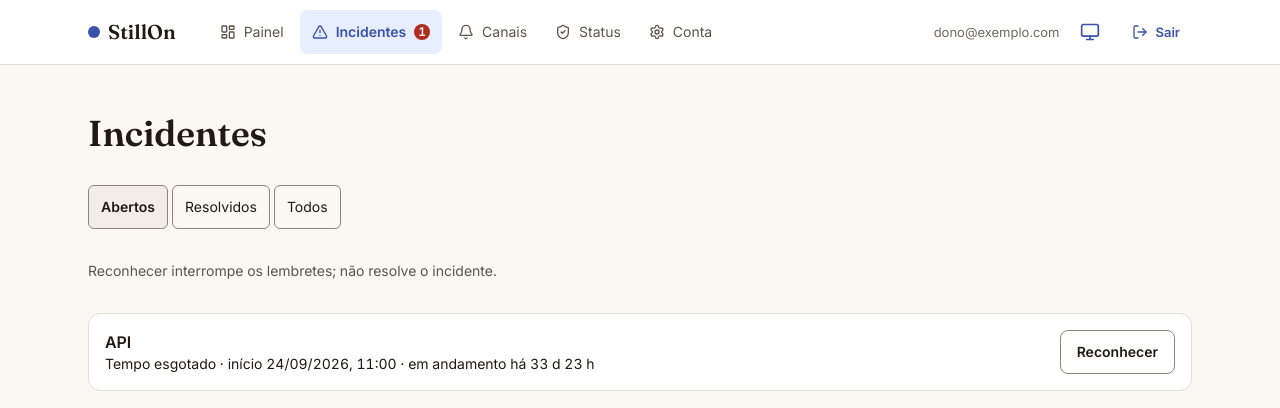
incidentes › lista os abertos por padrão, com causa em texto, e reconhece
This screenshot has width=1280, height=408.
Expected: the text "Tempo esgotado" is shown, x1=105 y1=355 x2=216 y2=372
What coordinates should you click on to do the following:
click the button with aria-label "Reconhecer o incidente de API"
I would click on:
 (1117, 352)
Its box is x1=1060 y1=330 x2=1175 y2=374.
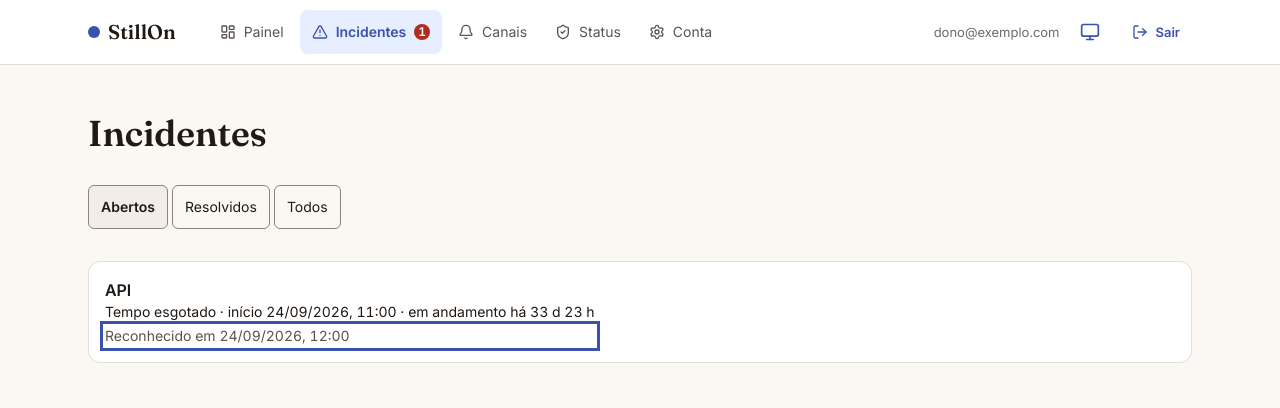
Result: the text "Reconhecido em 24/09/2026, 12:00" is shown at x1=105 y1=327 x2=350 y2=344
